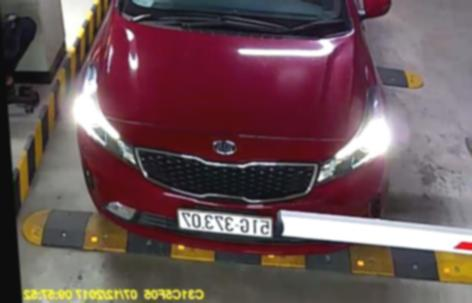License_Plate: (172, 209, 280, 238)
